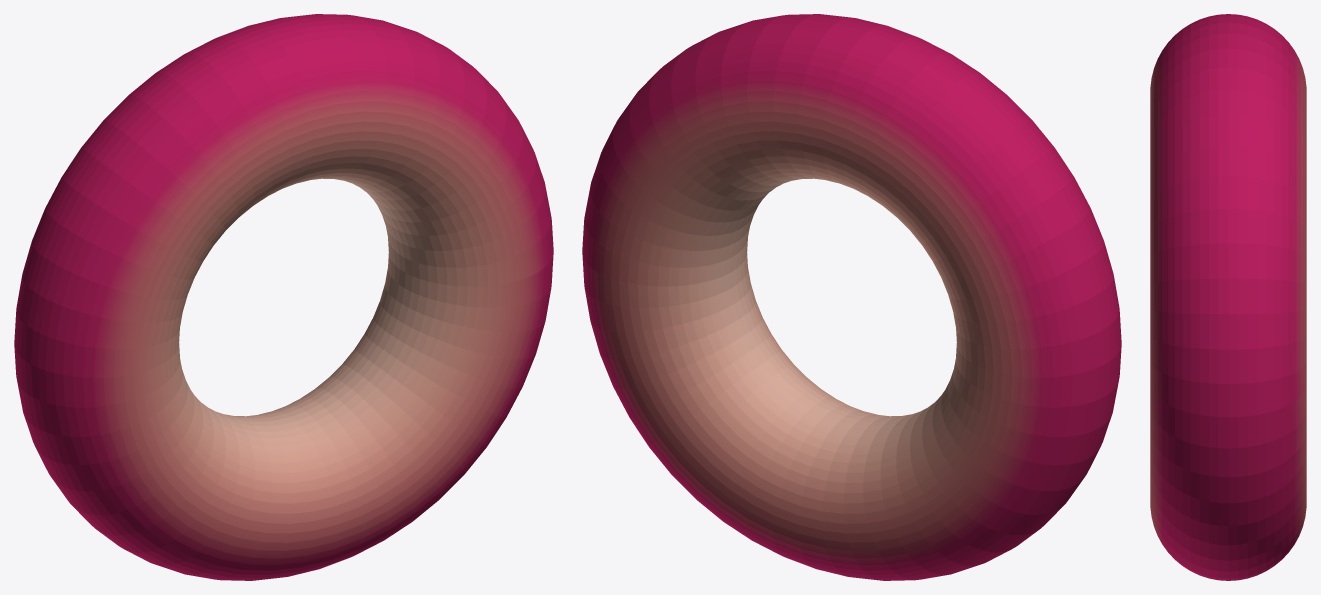
3 renders of one model, left to right at view 1: azimuth 30°, elevation 25°; view 2: azimuth 150°, elevation 25°; view 3: azimuth 270°, elevation 25°, orthographic. The views are drawn at different scales.
Visible parts, largest first — view 1: world; view 2: world; view 3: world.
Part boxes in pixels (x1,y1,x2,y2): world: [14, 14, 553, 580]; world: [582, 14, 1121, 580]; world: [1150, 14, 1306, 580].
Size of the model in its own units: 29.47 by 29.41 by 8.12.
